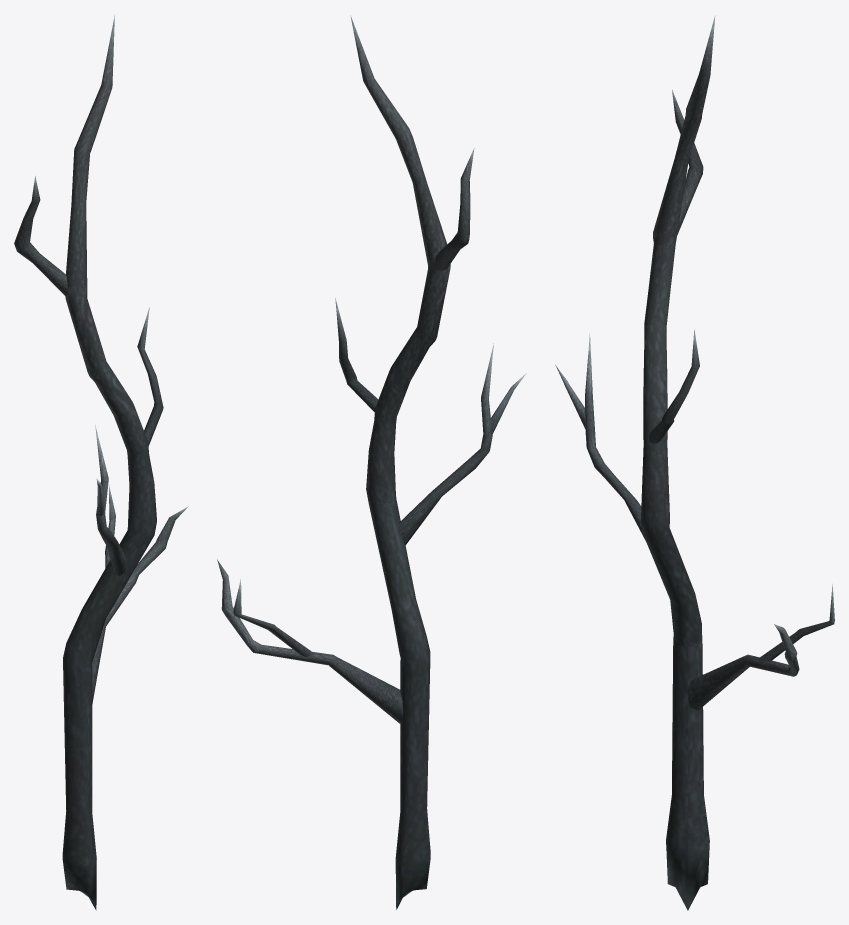
The model's file is hermitsstick.obj.
3 renders of one model, left to right at view 1: azimuth 30°, elevation 25°; view 2: azimuth 150°, elevation 25°; view 3: azimuth 270°, elevation 25°, orthographic. The views are drawn at different scales.
Visible parts, largest first — view 1: hermitsstick; view 2: hermitsstick; view 3: hermitsstick.
Boxes of the visible parts, x1,y1,x2,y2 form: hermitsstick: [14, 15, 188, 910]; hermitsstick: [217, 15, 526, 909]; hermitsstick: [555, 15, 834, 910].
Bounding box in the file's own units: 0.2657 × 1.06 × 0.2949.
